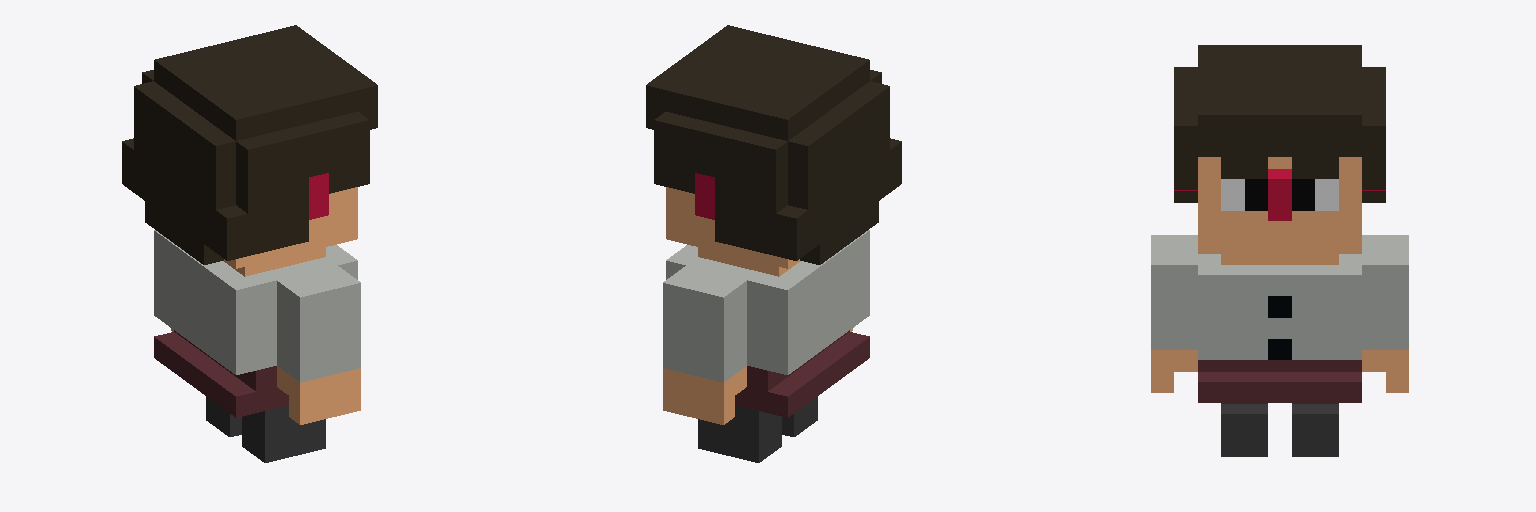
3 renders of one model, left to right at view 1: azimuth 30°, elevation 25°; view 2: azimuth 150°, elevation 25°; view 3: azimuth 270°, elevation 25°, orthographic.
Parts seen in each view (by area): view 1: object 1; view 2: object 1; view 3: object 1.
Part boxes in pixels (bbox=[...]): object 1: bbox=[122, 25, 377, 462]; object 1: bbox=[646, 25, 901, 462]; object 1: bbox=[1151, 45, 1408, 456].
Size of the model in its own units: 0.8 by 1.7 by 1.1.
1 materials, 1 textured.